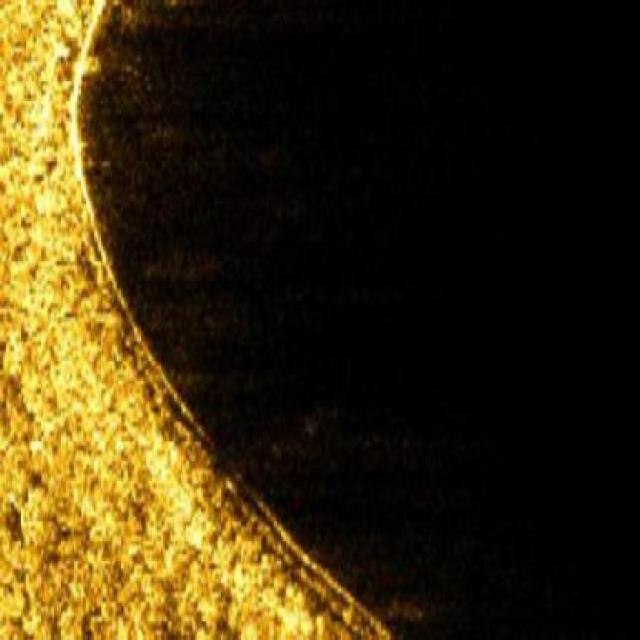bedrock group: (0, 0, 391, 638)
